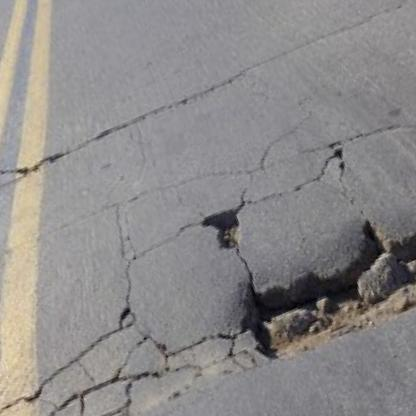pothole: (226, 165, 416, 386), (198, 197, 259, 259)
